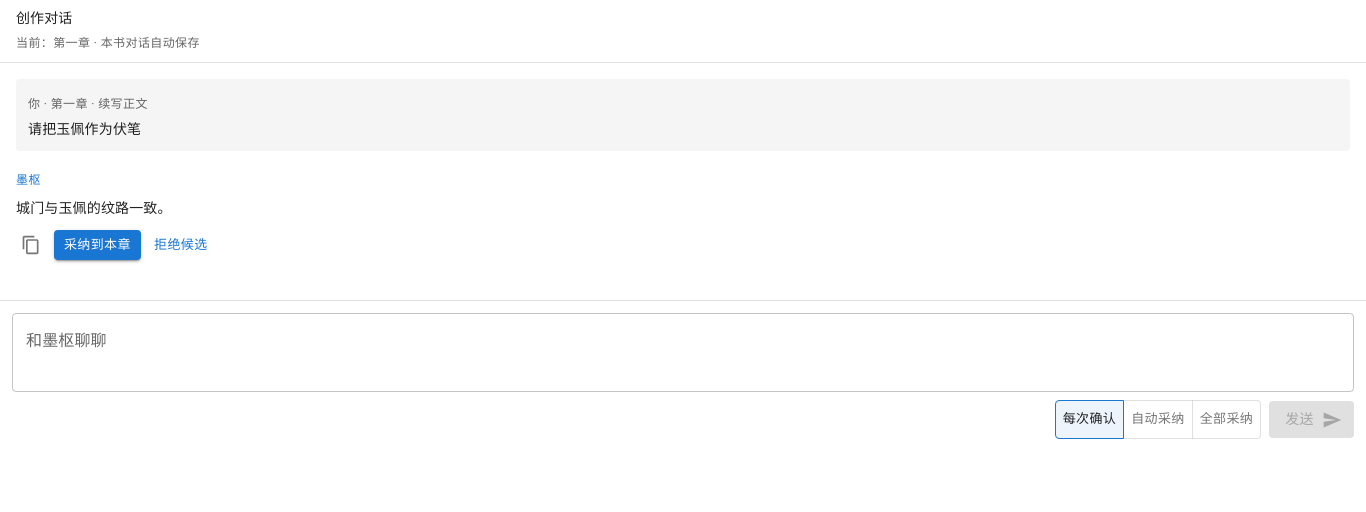
Test: 服务端候选确认 › 同整数ID但章节生命周期改变时交服务端裁决，展示服务端拒绝原因
Click the button "采纳到本章": click(97, 245) [54,230,141,260]
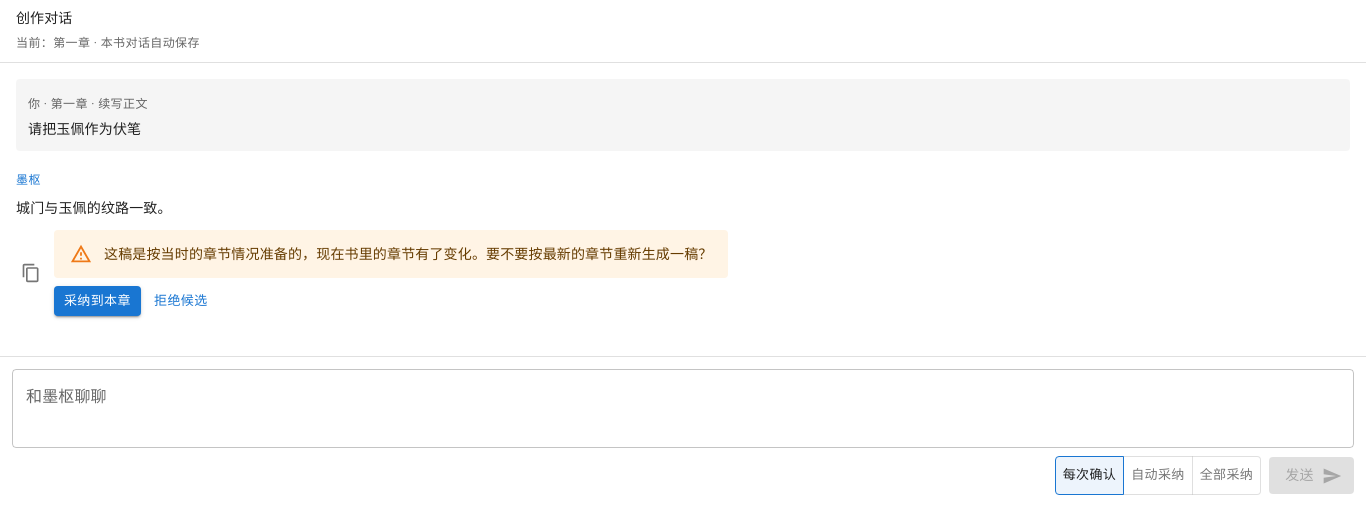
Result: the text "这稿是按当时的章节情况准备的，现在书里的章节有了变化。要不要按最新的章节重新生成一稿？" is shown at [104,246,712,262]
